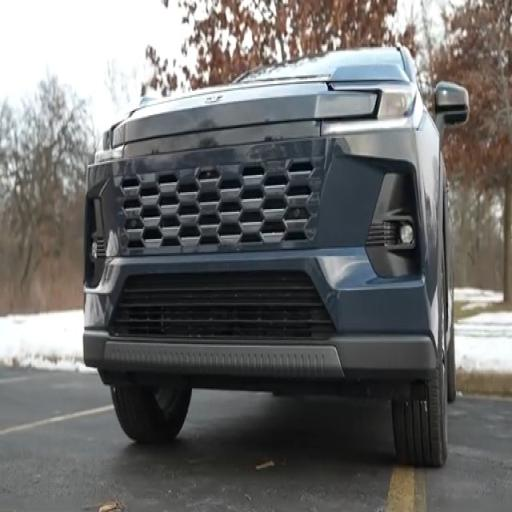bumper: (84, 248, 436, 379), (84, 332, 435, 379)
emblem: (206, 96, 221, 103)
fog_light: (400, 222, 414, 244), (91, 241, 97, 260)
grille: (120, 160, 320, 250), (110, 272, 334, 339), (366, 222, 398, 246)
side_mirror: (435, 82, 469, 133)
tire: (392, 350, 447, 467), (111, 386, 191, 443), (448, 325, 456, 403)
window: (236, 49, 403, 82)
